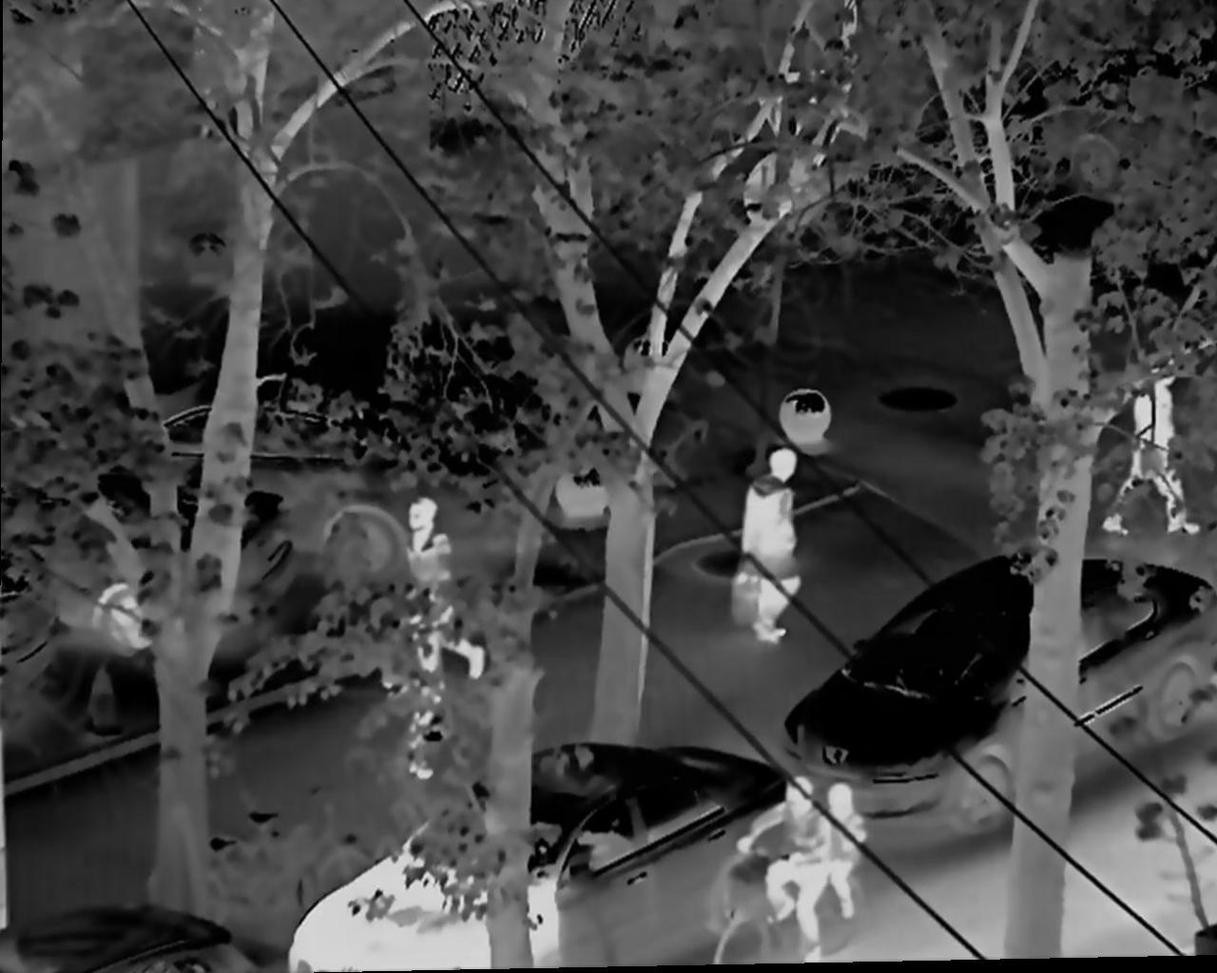person: (1100, 379, 1197, 540), (405, 496, 487, 685), (738, 776, 826, 952), (740, 448, 801, 645), (815, 777, 858, 921)
